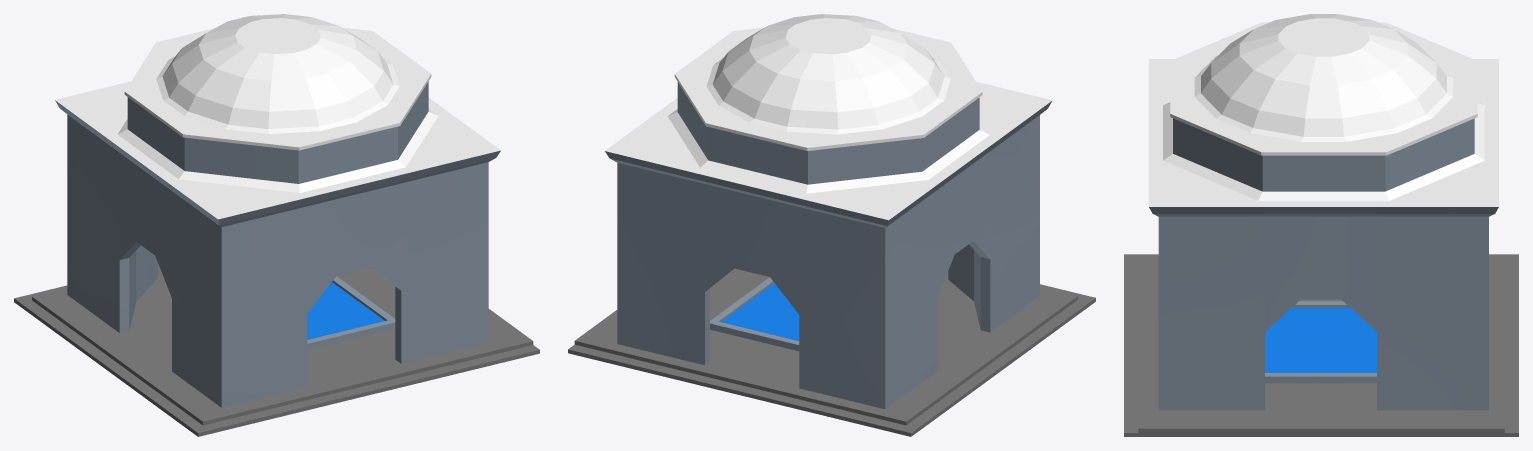
File: Bathhouse Cap.fbx
3 renders of one model, left to right at view 1: azimuth 30°, elevation 25°; view 2: azimuth 150°, elevation 25°; view 3: azimuth 270°, elevation 25°, orthographic. The views are drawn at different scales.
Parts seen in each view (by area): view 1: Bathhouse Cap; view 2: Bathhouse Cap; view 3: Bathhouse Cap.
Part boxes in pixels (box(x1,y1,x2,y2)): Bathhouse Cap: box(14, 14, 539, 436); Bathhouse Cap: box(568, 14, 1095, 436); Bathhouse Cap: box(1124, 14, 1518, 436).
Size of the model in its own units: 93.75 by 76.13 by 87.5.
